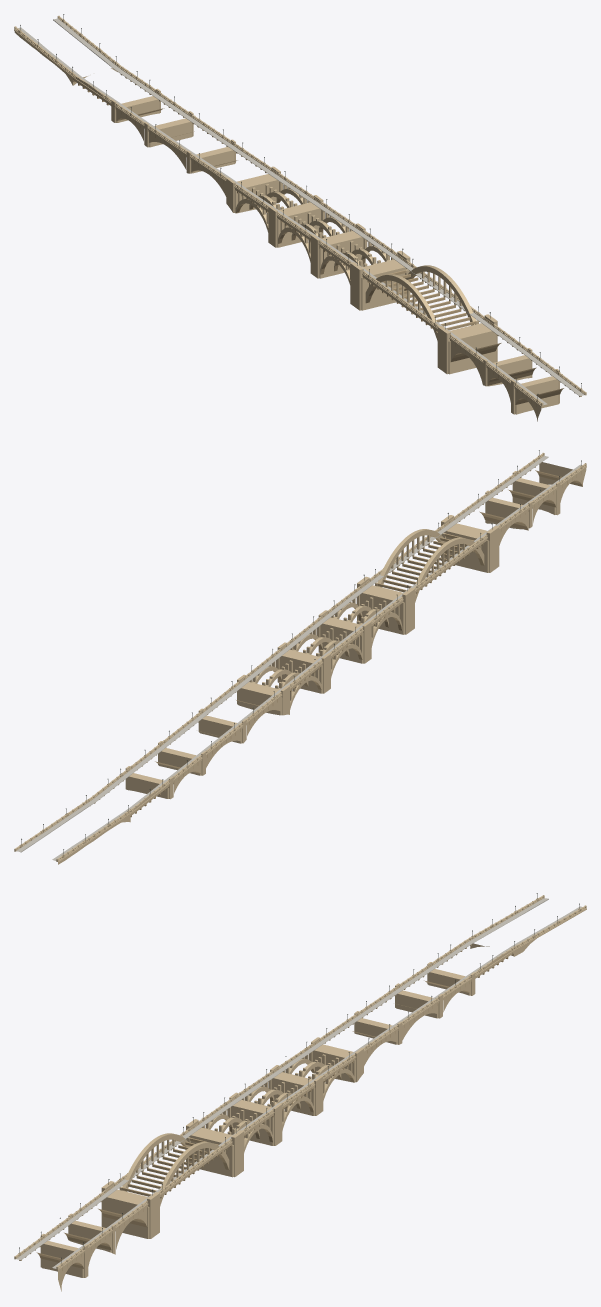
File: msp-robert-street-bridge.detail.glb
3 views of the same model, one above another, from view 1: azimuth 30°, elevation 25°; view 2: azimuth 150°, elevation 25°; view 3: azimuth 330°, elevation 25° (orthographic). The views are drawn at different scales.
Parts seen in each view (by area): view 1: Robert Street Bridge; view 2: Robert Street Bridge; view 3: Robert Street Bridge.
Boxes of the visible parts, x1,y1,x2,y2 form: Robert Street Bridge: [14, 14, 586, 421]; Robert Street Bridge: [14, 450, 586, 864]; Robert Street Bridge: [14, 893, 586, 1291].
Bounding box in the file's own units: 30.42 × 28.76 × 496.
